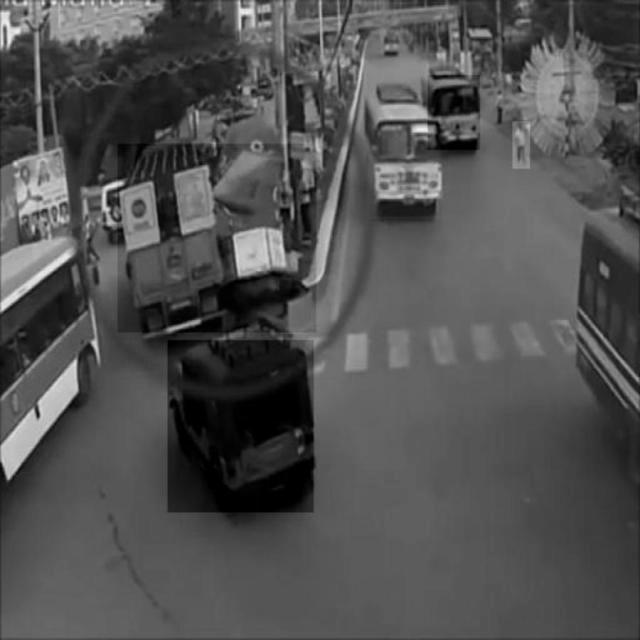accident: (118, 144, 316, 332)
person: (513, 122, 530, 169)
vehicle: (168, 339, 314, 513), (368, 100, 439, 220), (428, 76, 480, 150)
